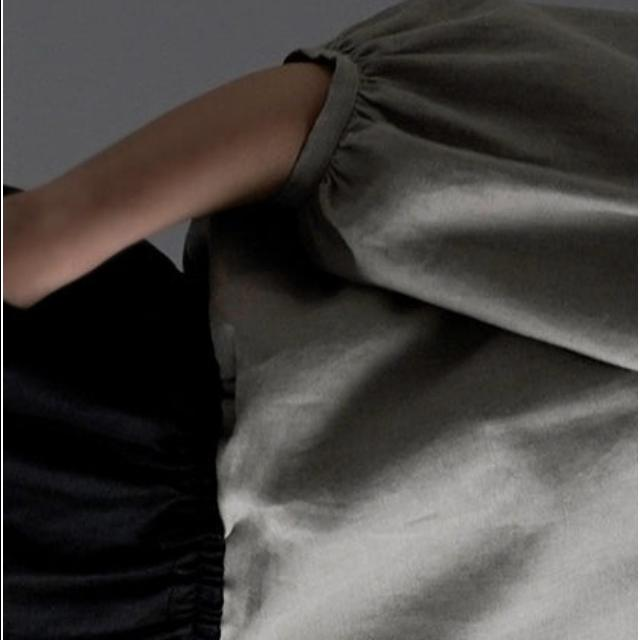linen: (200, 14, 638, 640)
